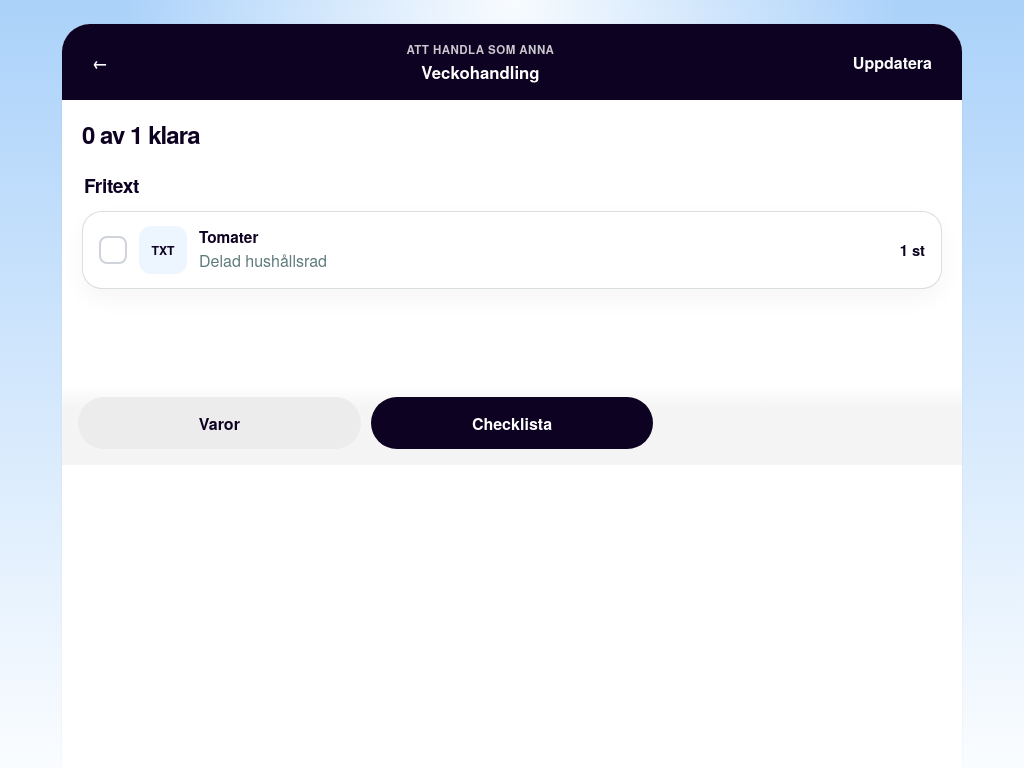
Test case: ShoppingListDetailPage › keeps a locally checked item checked when a stale websocket reload resolves afterward
Expected: the text "Tomater" is shown, [199,226,258,248]
Click the button named "Markera Tomater" at point(113, 250), box [99,236,127,264]
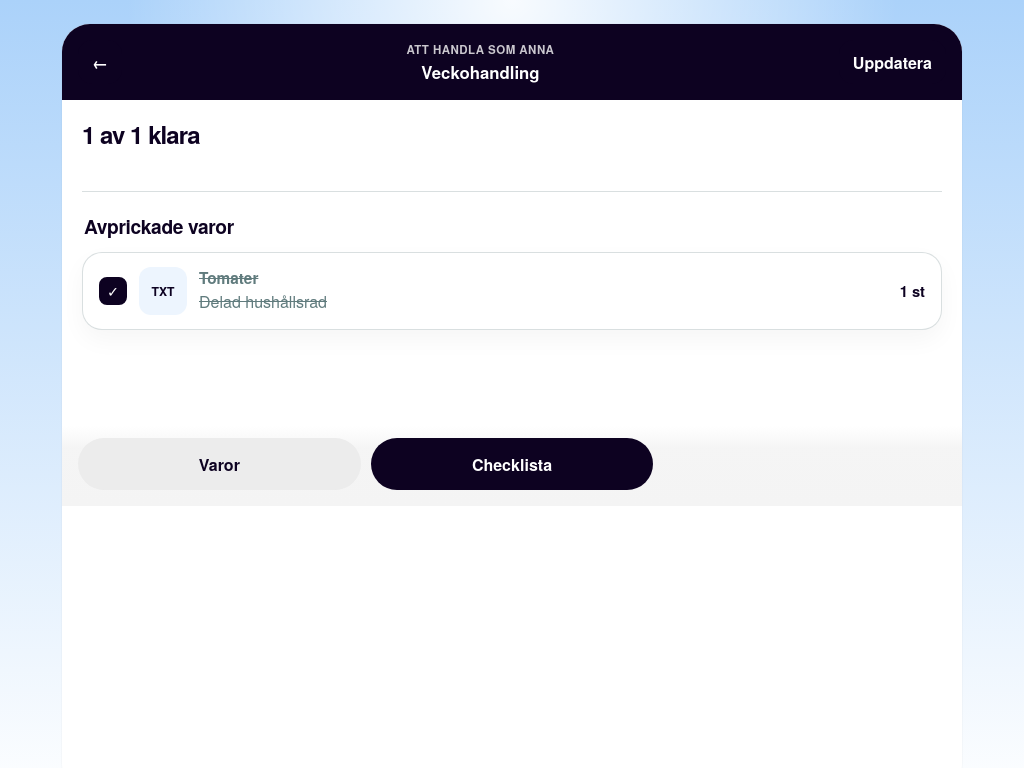
Now the button named "Avmarkera Tomater" is shown, box [99,277,127,305]
